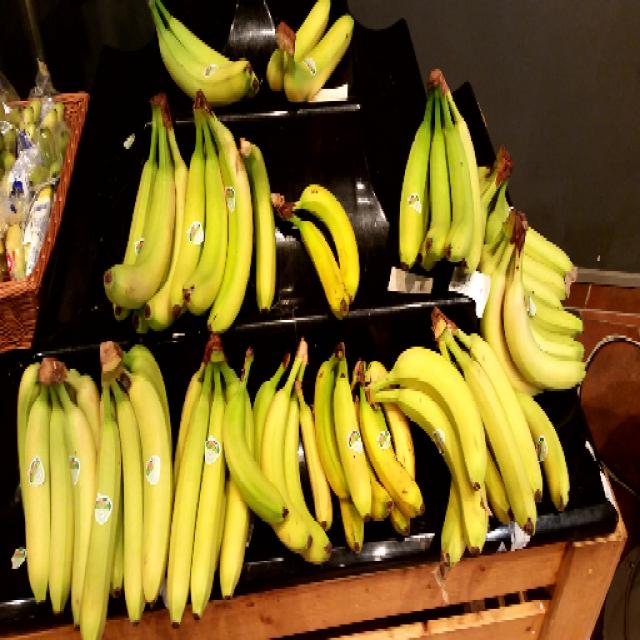banana: (358, 319, 578, 572), (101, 86, 281, 336), (294, 334, 424, 564), (162, 341, 264, 620), (4, 338, 98, 640), (392, 60, 484, 296), (138, 0, 262, 113), (280, 183, 371, 320), (267, 0, 364, 99)
